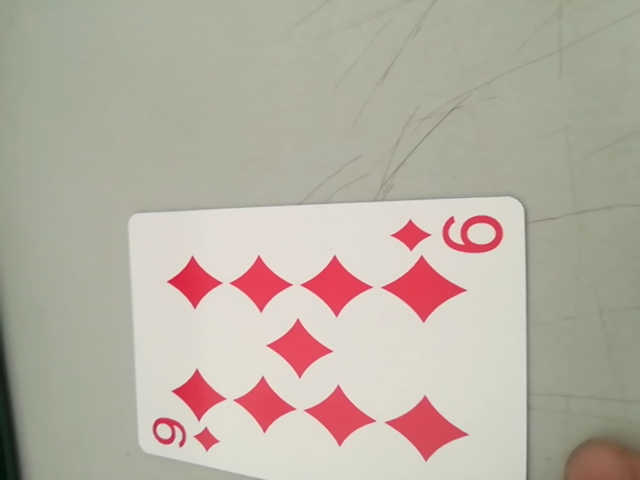fk 9: (390, 206, 509, 262), (143, 413, 230, 458)
